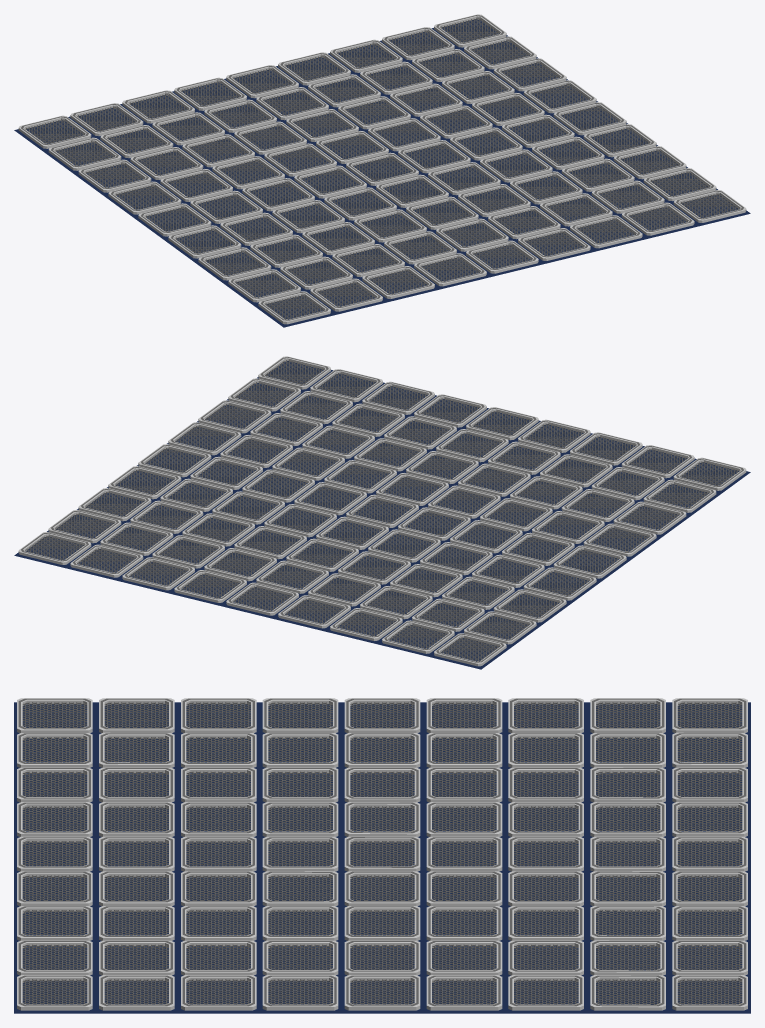
Rendered from floor.fbx.
The picture shows the model from 3 angles, top to bottom: view 1: azimuth 30°, elevation 25°; view 2: azimuth 150°, elevation 25°; view 3: azimuth 270°, elevation 25°; orthographic projection. The views are drawn at different scales.
Parts seen in each view (by area): view 1: Plane, Plane|honeycomb|Dupli|29.1.0.0.0.0.0.0.0.0, Plane|honeycomb|Dupli|18.1.0.0.0.0.0.0.0.0, Plane|honeycomb|Dupli|32.1.0.0.0.0.0.0.0.0, Plane|honeycomb|Dupli|56.1.0.0.0.0.0.0.0.0, Plane|honeycomb|Dupli|5.1.0.0.0.0.0.0.0.0, Plane|honeycomb|Dupli|10.1.0.0.0.0.0.0.0.0, Plane|honeycomb|Dupli|13.1.0.0.0.0.0.0.0.0, Plane|honeycomb|Dupli|34.1.0.0.0.0.0.0.0.0, Plane|honeycomb|Dupli|40.1.0.0.0.0.0.0.0.0, Plane|honeycomb|Dupli|43.1.0.0.0.0.0.0.0.0, Plane|honeycomb|Dupli|45.1.0.0.0.0.0.0.0.0 (+150 smaller); view 2: Plane, Plane|honeycomb|Dupli|14.1.0.0.0.0.0.0.0.0, Plane|honeycomb|Dupli|45.1.0.0.0.0.0.0.0.0, Plane|honeycomb|Dupli|11.1.0.0.0.0.0.0.0.0, Plane|honeycomb|Dupli|16.1.0.0.0.0.0.0.0.0, Plane|honeycomb|Dupli|48.1.0.0.0.0.0.0.0.0, Plane|honeycomb|Dupli|58.1.0.0.0.0.0.0.0.0, Plane|honeycomb|Dupli|40.1.0.0.0.0.0.0.0.0, Plane|honeycomb|Dupli|42.1.0.0.0.0.0.0.0.0, Plane|honeycomb|Dupli|68.1.0.0.0.0.0.0.0.0, Plane|honeycomb|Dupli|69.1.0.0.0.0.0.0.0.0, Plane|honeycomb|Dupli|24.1.0.0.0.0.0.0.0.0 (+150 smaller); view 3: Plane, Plane|honeycomb|Dupli|1.1.0.0.0.0.0.0.0.0, Plane|honeycomb|Dupli|0.1.0.0.0.0.0.0.0.0, Plane|honeycomb|Dupli|65.1.0.0.0.0.0.0.0.0, Plane|honeycomb|Dupli|73.1.0.0.0.0.0.0.0.0, Plane|honeycomb|Dupli|33.1.0.0.0.0.0.0.0.0, Plane|honeycomb|Dupli|41.1.0.0.0.0.0.0.0.0, Plane|honeycomb|Dupli|49.1.0.0.0.0.0.0.0.0, Plane|honeycomb|Dupli|3.1.0.0.0.0.0.0.0.0, Plane|honeycomb|Dupli|4.1.0.0.0.0.0.0.0.0, Plane|honeycomb|Dupli|5.1.0.0.0.0.0.0.0.0, Plane|honeycomb|Dupli|6.1.0.0.0.0.0.0.0.0 (+152 smaller).
Part boxes in pixels (bbox=[...]): Plane: bbox=[14, 19, 750, 327]; Plane|honeycomb|Dupli|29.1.0.0.0.0.0.0.0.0: bbox=[323, 134, 382, 158]; Plane|honeycomb|Dupli|18.1.0.0.0.0.0.0.0.0: bbox=[137, 150, 196, 175]; Plane|honeycomb|Dupli|32.1.0.0.0.0.0.0.0.0: bbox=[478, 96, 538, 120]; Plane|honeycomb|Dupli|56.1.0.0.0.0.0.0.0.0: bbox=[568, 162, 628, 186]; Plane|honeycomb|Dupli|5.1.0.0.0.0.0.0.0.0: bbox=[560, 105, 619, 130]; Plane|honeycomb|Dupli|10.1.0.0.0.0.0.0.0.0: bbox=[107, 128, 166, 153]; Plane|honeycomb|Dupli|13.1.0.0.0.0.0.0.0.0: bbox=[262, 90, 322, 115]; Plane|honeycomb|Dupli|34.1.0.0.0.0.0.0.0.0: bbox=[197, 194, 256, 218]; Plane|honeycomb|Dupli|40.1.0.0.0.0.0.0.0.0: bbox=[508, 118, 568, 142]; Plane|honeycomb|Dupli|43.1.0.0.0.0.0.0.0.0: bbox=[279, 203, 338, 228]; Plane|honeycomb|Dupli|45.1.0.0.0.0.0.0.0.0: bbox=[383, 178, 442, 202]; Plane: bbox=[14, 361, 750, 669]; Plane|honeycomb|Dupli|14.1.0.0.0.0.0.0.0.0: bbox=[210, 551, 270, 576]; Plane|honeycomb|Dupli|45.1.0.0.0.0.0.0.0.0: bbox=[382, 476, 442, 500]; Plane|honeycomb|Dupli|11.1.0.0.0.0.0.0.0.0: bbox=[366, 590, 426, 613]; Plane|honeycomb|Dupli|16.1.0.0.0.0.0.0.0.0: bbox=[106, 526, 166, 550]; Plane|honeycomb|Dupli|48.1.0.0.0.0.0.0.0.0: bbox=[226, 438, 286, 462]; Plane|honeycomb|Dupli|58.1.0.0.0.0.0.0.0.0: bbox=[598, 471, 657, 495]; Plane|honeycomb|Dupli|40.1.0.0.0.0.0.0.0.0: bbox=[196, 460, 256, 484]; Plane|honeycomb|Dupli|42.1.0.0.0.0.0.0.0.0: bbox=[538, 514, 597, 538]; Plane|honeycomb|Dupli|68.1.0.0.0.0.0.0.0.0: bbox=[524, 423, 584, 447]; Plane|honeycomb|Dupli|69.1.0.0.0.0.0.0.0.0: bbox=[472, 411, 532, 435]; Plane|honeycomb|Dupli|24.1.0.0.0.0.0.0.0.0: bbox=[136, 504, 196, 528]; Plane: bbox=[14, 702, 750, 1013]; Plane|honeycomb|Dupli|1.1.0.0.0.0.0.0.0.0: bbox=[22, 979, 87, 1004]; Plane|honeycomb|Dupli|0.1.0.0.0.0.0.0.0.0: bbox=[677, 979, 742, 1004]; Plane|honeycomb|Dupli|65.1.0.0.0.0.0.0.0.0: bbox=[22, 702, 87, 727]; Plane|honeycomb|Dupli|73.1.0.0.0.0.0.0.0.0: bbox=[677, 702, 742, 727]; Plane|honeycomb|Dupli|33.1.0.0.0.0.0.0.0.0: bbox=[350, 702, 414, 727]; Plane|honeycomb|Dupli|41.1.0.0.0.0.0.0.0.0: bbox=[268, 702, 332, 727]; Plane|honeycomb|Dupli|49.1.0.0.0.0.0.0.0.0: bbox=[186, 702, 250, 727]; Plane|honeycomb|Dupli|3.1.0.0.0.0.0.0.0.0: bbox=[186, 979, 250, 1004]; Plane|honeycomb|Dupli|4.1.0.0.0.0.0.0.0.0: bbox=[268, 979, 332, 1004]; Plane|honeycomb|Dupli|5.1.0.0.0.0.0.0.0.0: bbox=[350, 979, 414, 1004]; Plane|honeycomb|Dupli|6.1.0.0.0.0.0.0.0.0: bbox=[432, 979, 496, 1004].
Bounding box in the file's own units: 1000 × 8.32 × 1000.
